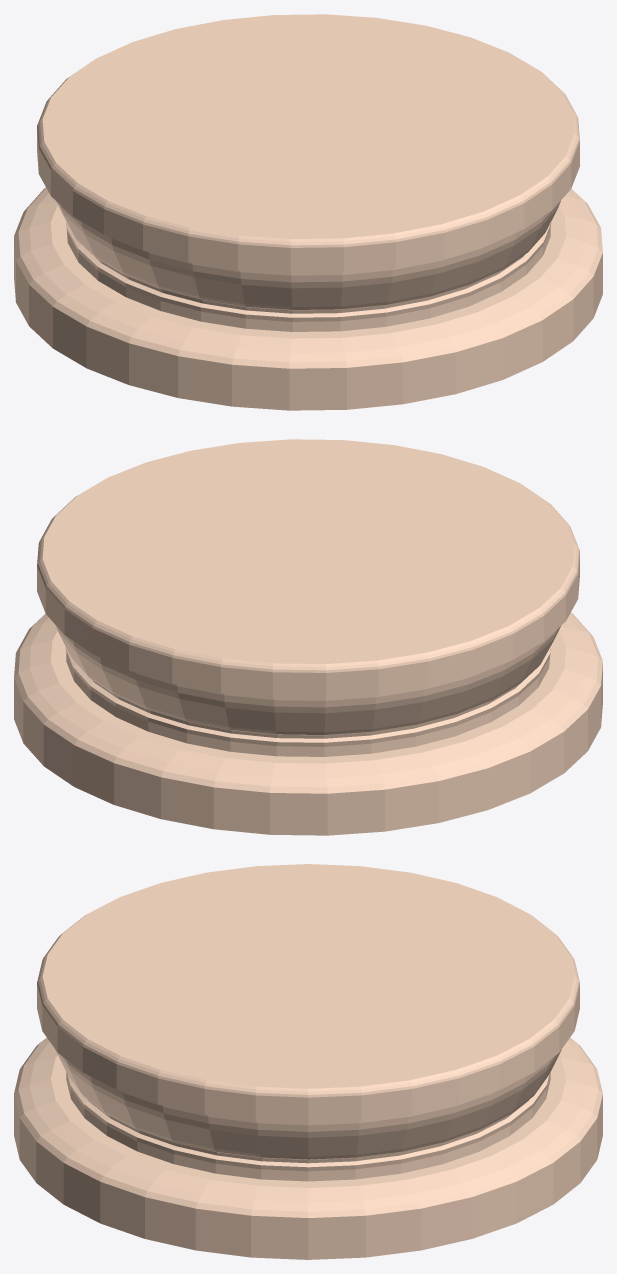
3 renders of one model, top to bottom at view 1: azimuth 30°, elevation 25°; view 2: azimuth 150°, elevation 25°; view 3: azimuth 270°, elevation 25°, orthographic.
Visible parts, largest first — view 1: Base; view 2: Base; view 3: Base.
Boxes of the visible parts, x1=… form: Base: x1=14, y1=14, x2=602, y2=410; Base: x1=14, y1=439, x2=602, y2=835; Base: x1=14, y1=864, x2=602, y2=1259.
Bounding box in the file's own units: 2.91 × 0.8686 × 2.91.
